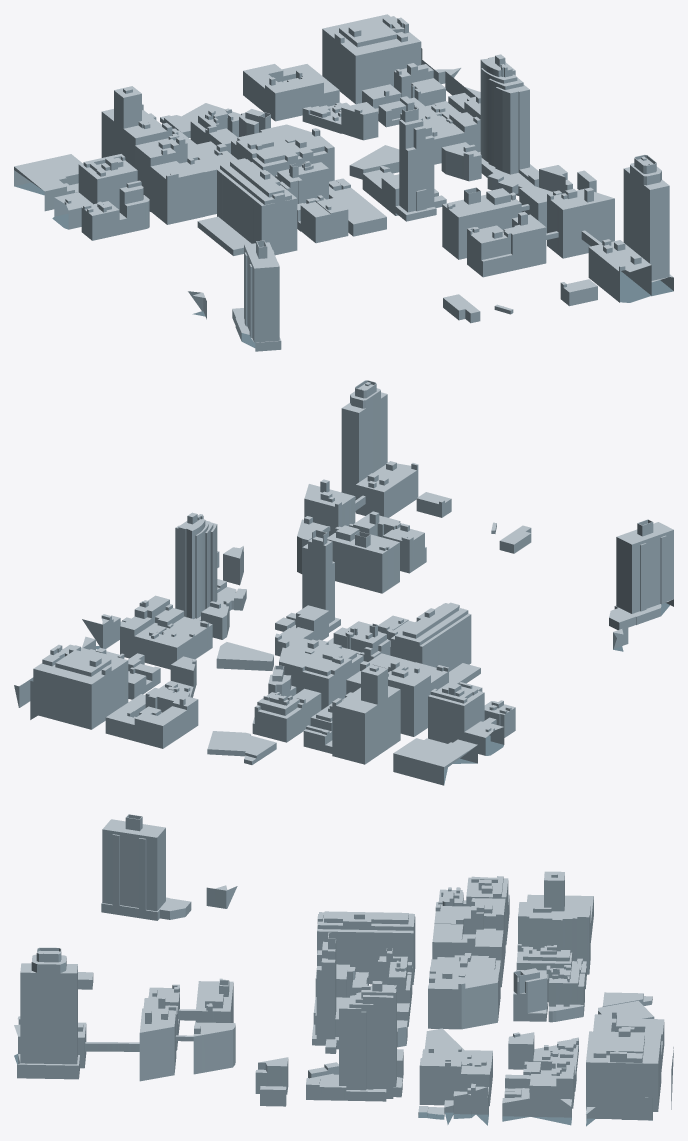
Rendered from dumbo-bk02-2014-source.glb.
3 views of the same model, one above another, from view 1: azimuth 30°, elevation 25°; view 2: azimuth 150°, elevation 25°; view 3: azimuth 270°, elevation 25° (orthographic). The views are drawn at different scales.
Visible parts, largest first — view 1: DUMBO BK02 2014 source mesh; view 2: DUMBO BK02 2014 source mesh; view 3: DUMBO BK02 2014 source mesh.
Part boxes in pixels (x1,y1,x2,y2): DUMBO BK02 2014 source mesh: (14,14,673,351); DUMBO BK02 2014 source mesh: (14,380,673,785); DUMBO BK02 2014 source mesh: (14,814,673,1126).
Bounding box in the file's own units: 449 × 133 × 576.
